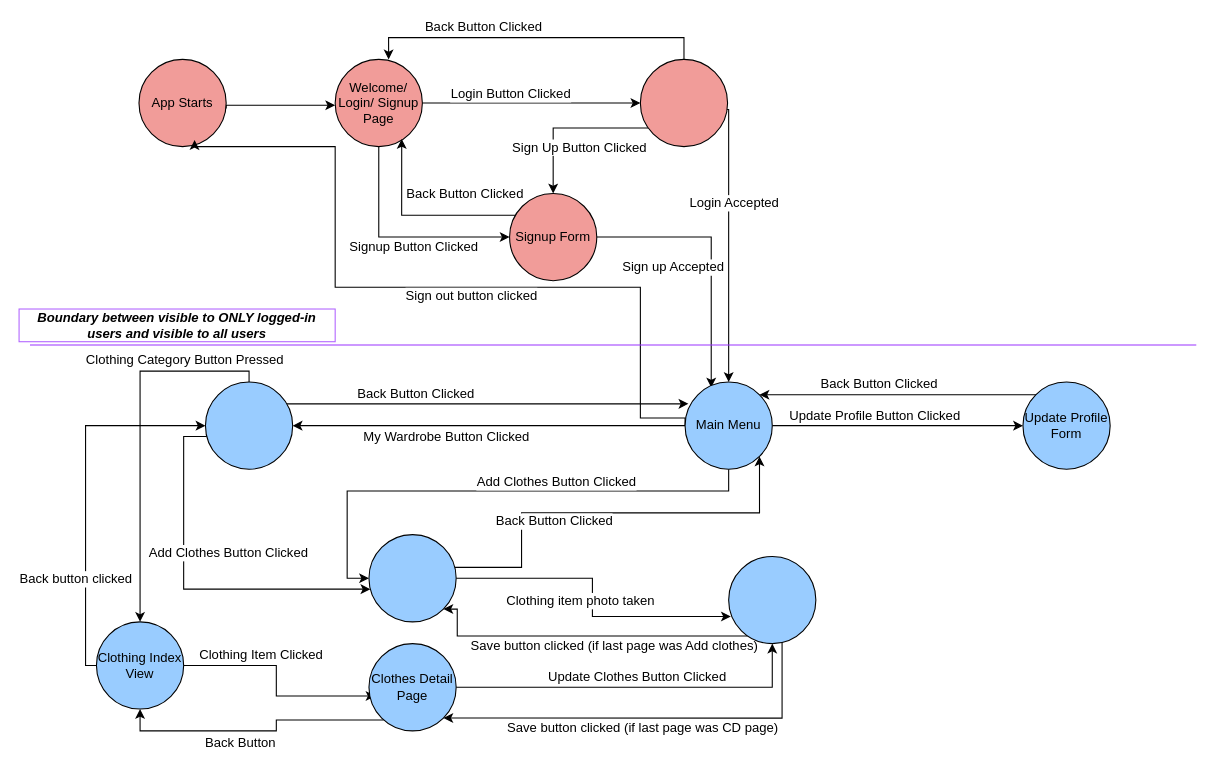
The diagram is 1216 pixels wide and 768 high, and some of its shapes have lost their labels. The centre of each missing label's shape, as x and y in pixels:
Add Clothes: (x=412, y=578)
Create/Update Clothes Form: (x=772, y=599)
Login Form: (x=683, y=102)
My Wardrobe: (x=248, y=425)
